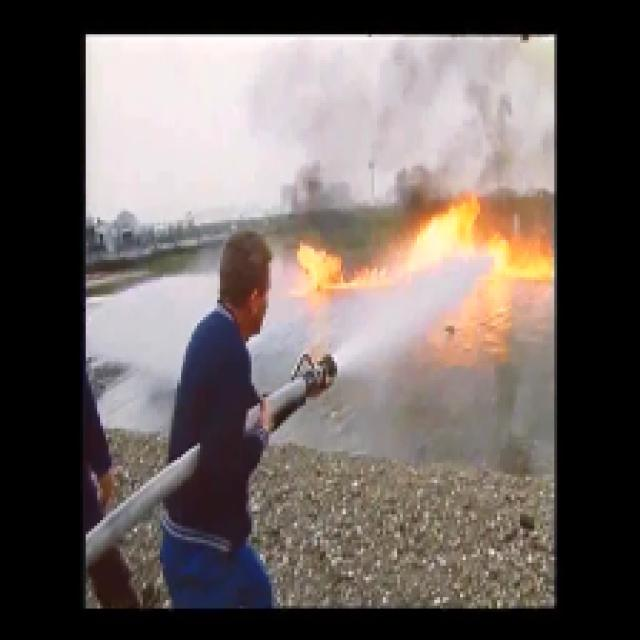fire: (416, 198, 472, 256), (302, 236, 357, 295)
